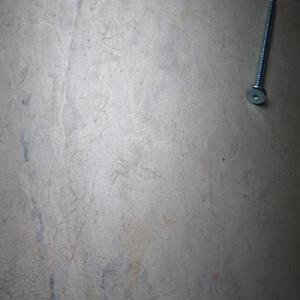Bolt: (245, 0, 276, 105)
